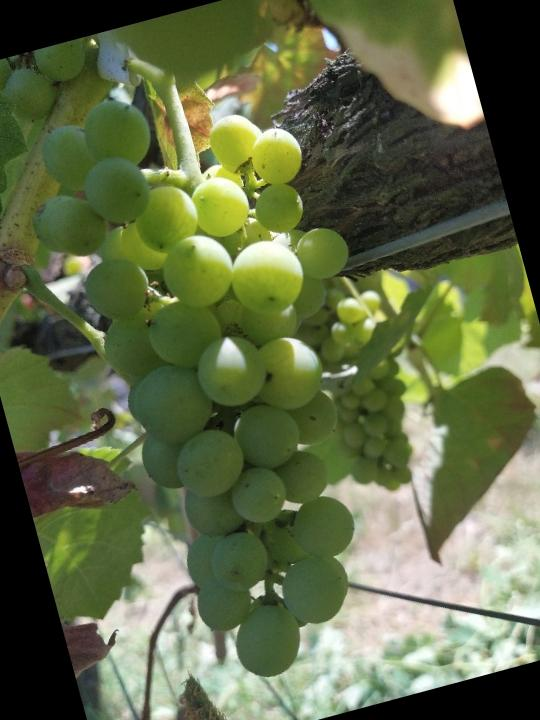grape: (2, 50, 452, 710)
